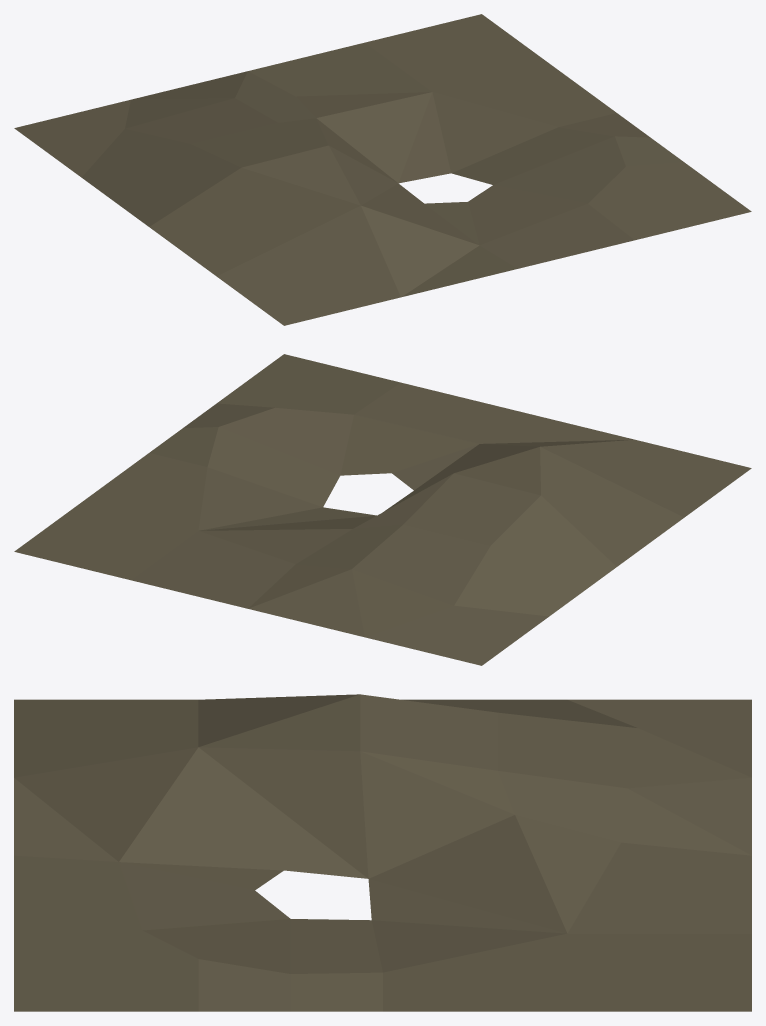
The model's file is FloorHole03.fbx.
The picture shows the model from 3 angles, top to bottom: view 1: azimuth 30°, elevation 25°; view 2: azimuth 150°, elevation 25°; view 3: azimuth 270°, elevation 25°; orthographic projection. The views are drawn at different scales.
Parts seen in each view (by area): view 1: FloorHole03; view 2: FloorHole03; view 3: FloorHole03.
Part boxes in pixels (x1,y1,x2,y2): FloorHole03: (14,14,751,325); FloorHole03: (14,354,751,665); FloorHole03: (14,694,751,1011).
Bounding box in the file's own units: 2032 × 257 × 2032.
